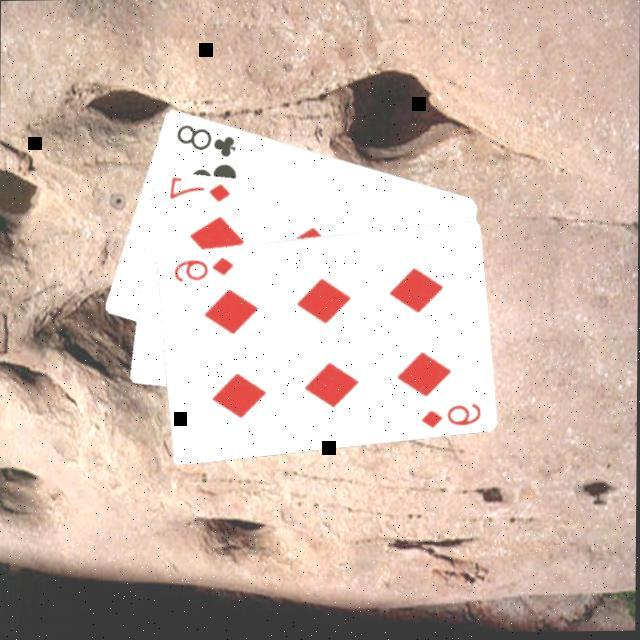6D: (168, 254, 234, 286), (416, 402, 482, 434)
7D: (163, 176, 232, 206)
8C: (171, 121, 237, 162)
